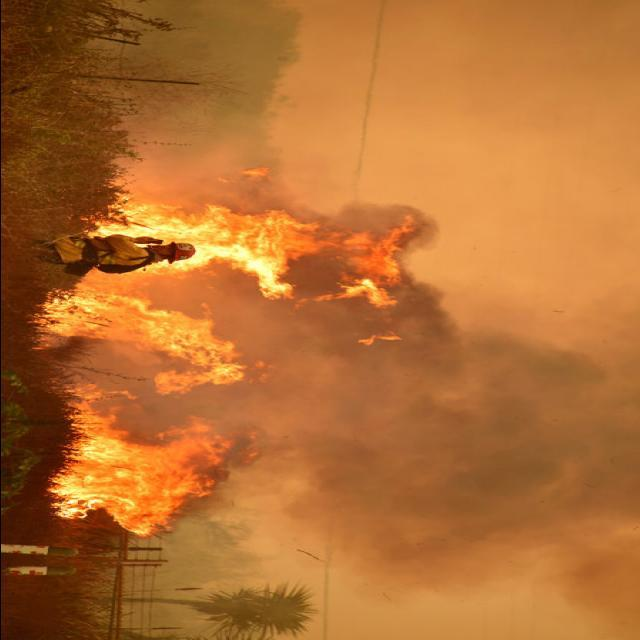Fire: (39, 187, 404, 535)
